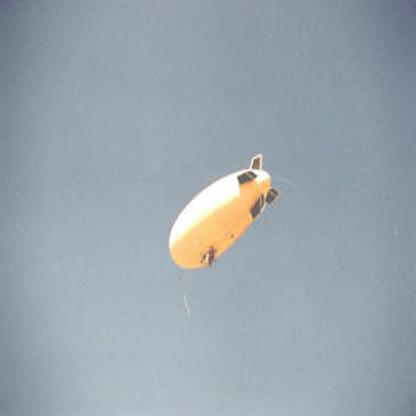Airship: (167, 151, 281, 273)
